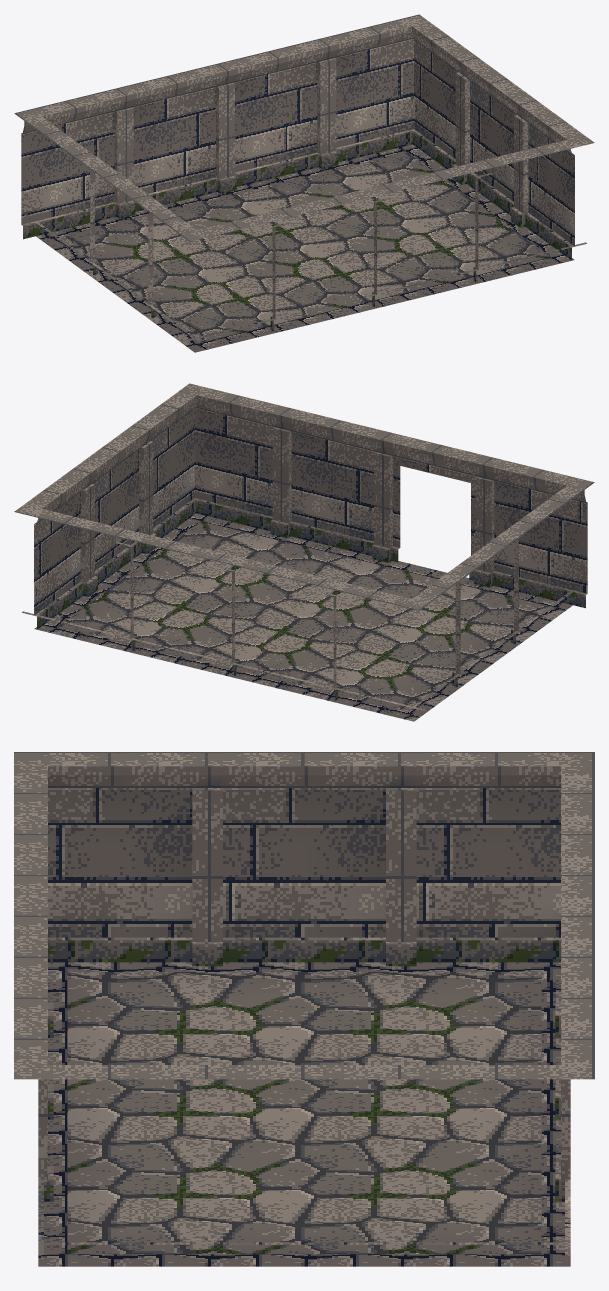
Rendered from dgn.room__large.glb.
3 views of the same model, one above another, from view 1: azimuth 30°, elevation 25°; view 2: azimuth 150°, elevation 25°; view 3: azimuth 270°, elevation 25° (orthographic). The views are drawn at different scales.
Parts seen in each view (by area): view 1: kit_shell_walls, kit_shell_floor; view 2: kit_shell_walls, kit_shell_floor; view 3: kit_shell_floor, kit_shell_walls.
Part boxes in pixels (<box>): kit_shell_walls: <box>14,14,594,342</box>; kit_shell_floor: <box>36,144,574,352</box>; kit_shell_walls: <box>14,383,594,711</box>; kit_shell_floor: <box>34,513,572,721</box>; kit_shell_floor: <box>38,962,570,1266</box>; kit_shell_walls: <box>14,752,594,1254</box>.
Size of the model in its own units: 16 by 4.5 by 12.
Materials: 5 (5 with a texture image).
